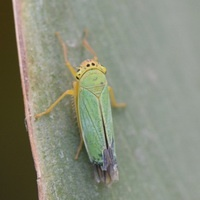insect: (35, 29, 125, 183)
